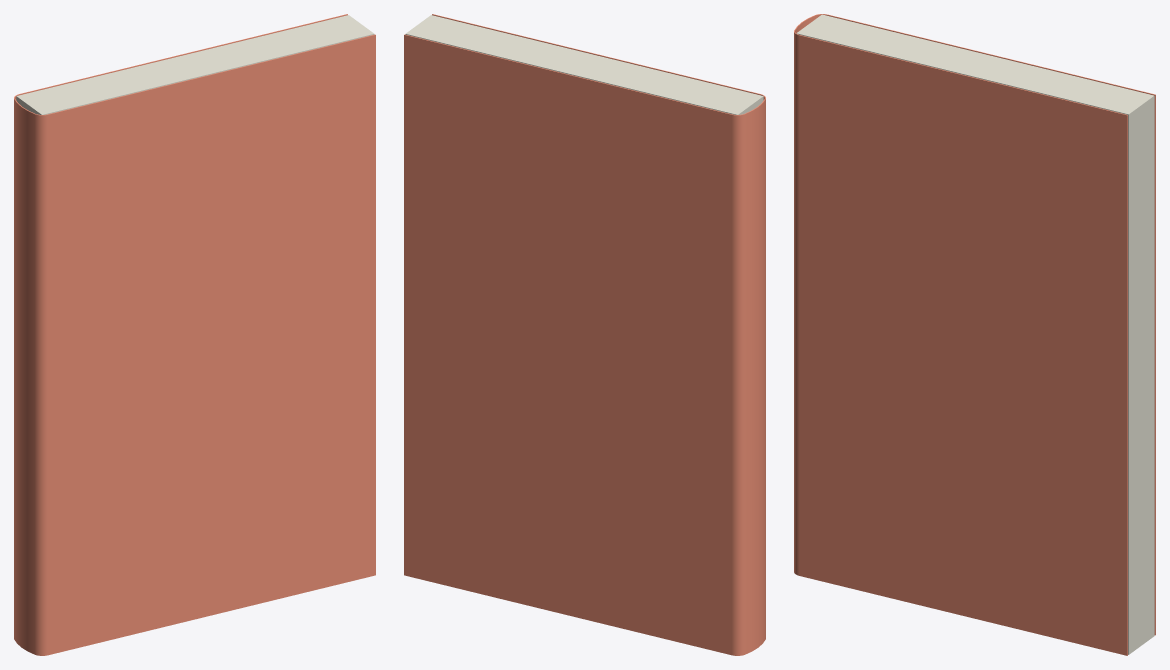
The model's file is book.glb.
3 views of the same model, side by side, from view 1: azimuth 30°, elevation 25°; view 2: azimuth 150°, elevation 25°; view 3: azimuth 330°, elevation 25° (orthographic).
Parts seen in each view (by area): view 1: 141_本(閉)(漫画サイズ); view 2: 141_本(閉)(漫画サイズ); view 3: 141_本(閉)(漫画サイズ).
Boxes of the visible parts, <box> form: 141_本(閉)(漫画サイズ): <box>14,14,375,655</box>; 141_本(閉)(漫画サイズ): <box>404,14,765,655</box>; 141_本(閉)(漫画サイズ): <box>794,14,1155,655</box>.
Size of the model in its own units: 0.1145 by 0.174 by 0.0166.
